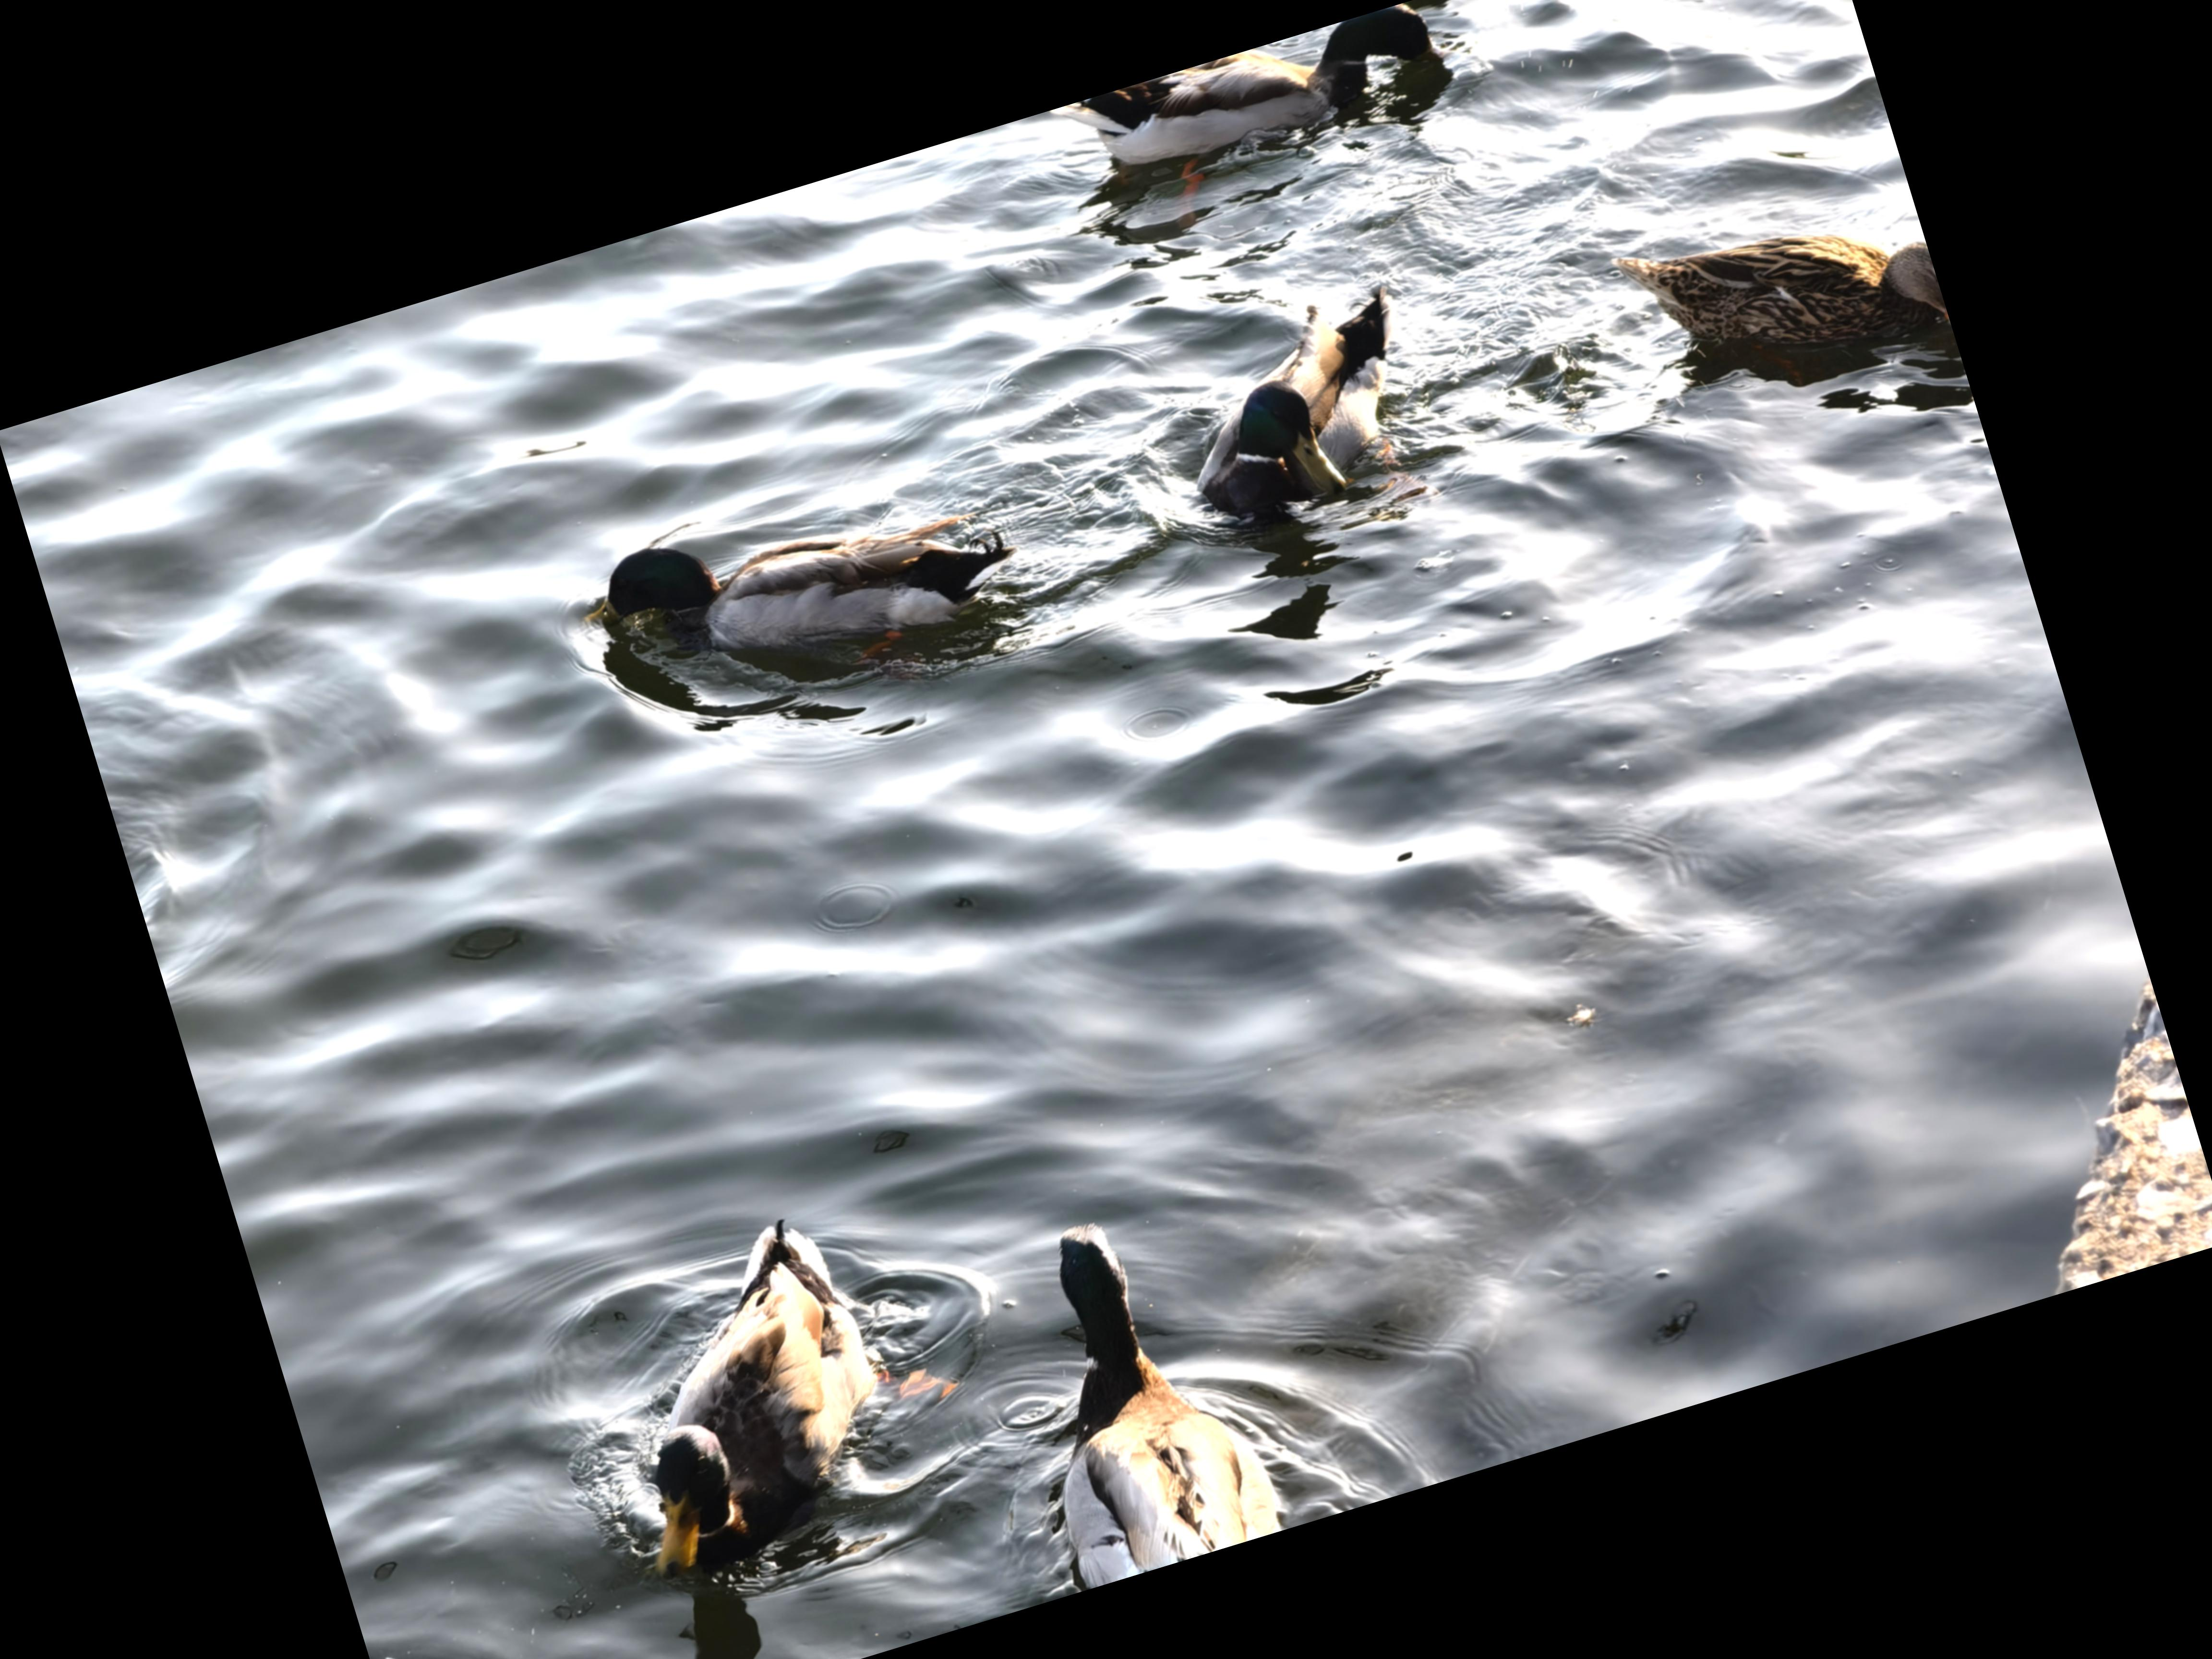duck: (521, 1188, 946, 1605), (961, 1168, 1324, 1595), (533, 443, 1028, 735), (1047, 0, 1479, 272), (1578, 131, 1956, 436), (1141, 267, 1461, 538)
